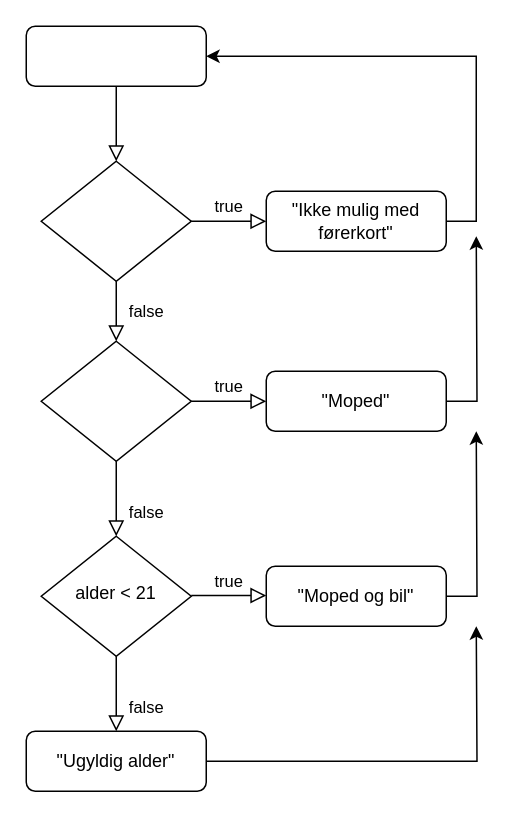
This 516x818 diagram has some shape labels left out. Here are the shapes that lost their labels. From the top down, the centre of each, then its label:
[115,55]: Les inn alder
[115,220]: alder < 16
[115,400]: alder < 18
